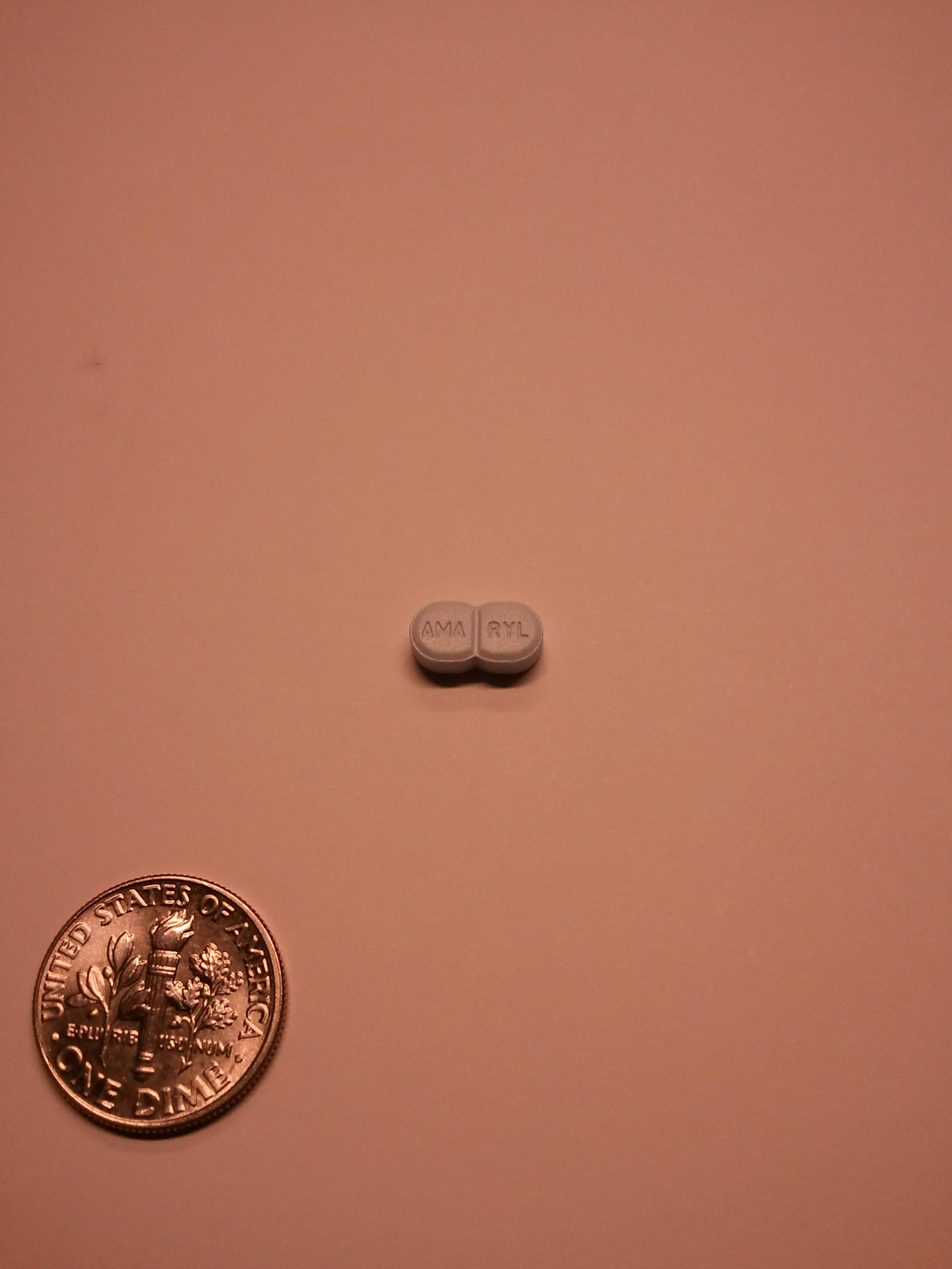Pill: (389, 592, 557, 694)
